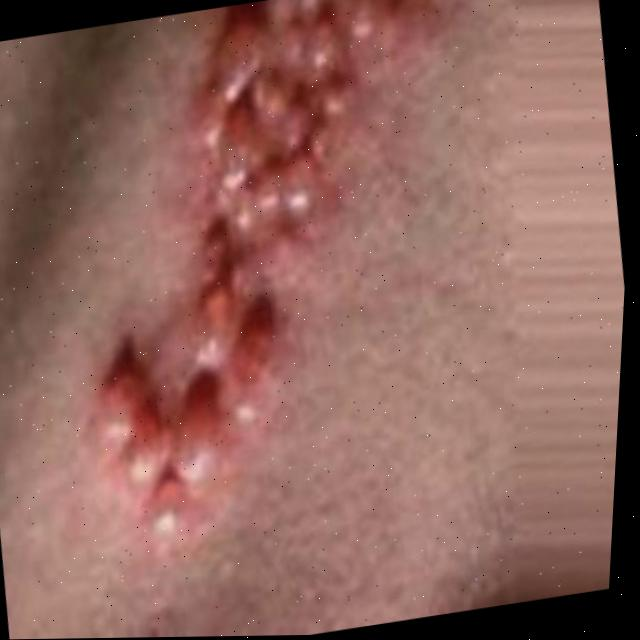Shingles: (47, 0, 492, 546)
